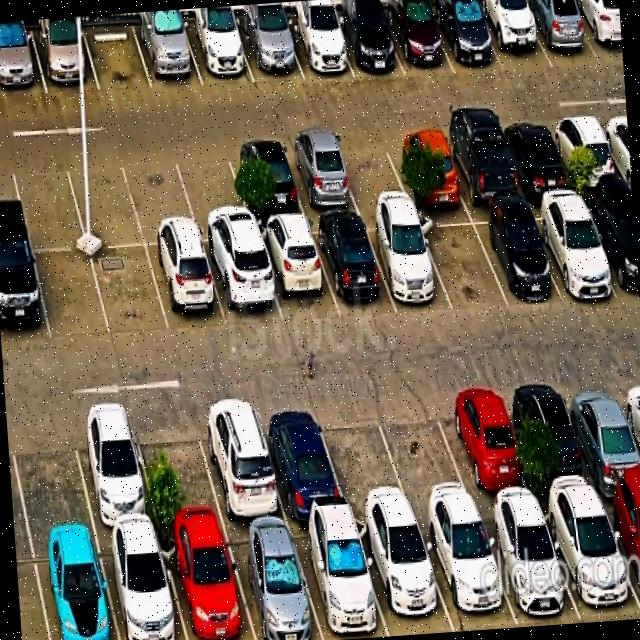empty: (372, 387, 476, 513), (314, 393, 412, 513), (131, 407, 224, 530), (6, 411, 94, 539), (416, 211, 507, 310), (173, 144, 254, 242), (64, 153, 144, 248), (122, 150, 200, 245), (9, 155, 86, 250), (90, 246, 169, 337), (33, 250, 110, 341), (331, 133, 410, 209), (82, 22, 152, 90)
occupied: (539, 496, 640, 622), (477, 505, 581, 625), (416, 509, 517, 631), (193, 396, 287, 525), (437, 382, 534, 507), (289, 518, 388, 640), (354, 516, 454, 636), (223, 524, 323, 640), (508, 377, 599, 501), (254, 398, 347, 519), (68, 408, 158, 532), (159, 527, 255, 640), (97, 531, 186, 640), (525, 196, 619, 299), (560, 375, 640, 495), (31, 535, 118, 640), (468, 206, 560, 305), (255, 220, 339, 324), (309, 216, 396, 316), (362, 214, 452, 310), (146, 243, 227, 332), (202, 240, 283, 327), (439, 124, 522, 204), (226, 140, 306, 221), (580, 194, 639, 300), (281, 136, 359, 215), (386, 128, 466, 202), (497, 117, 573, 194), (473, 0, 552, 73), (547, 114, 622, 188), (519, 0, 600, 68), (381, 1, 454, 76), (429, 0, 503, 73), (331, 8, 404, 77), (0, 248, 50, 345), (181, 20, 254, 86), (599, 491, 640, 608), (132, 20, 202, 88), (30, 25, 99, 93), (281, 14, 353, 78), (235, 17, 303, 82), (570, 0, 623, 63), (0, 29, 46, 96)
